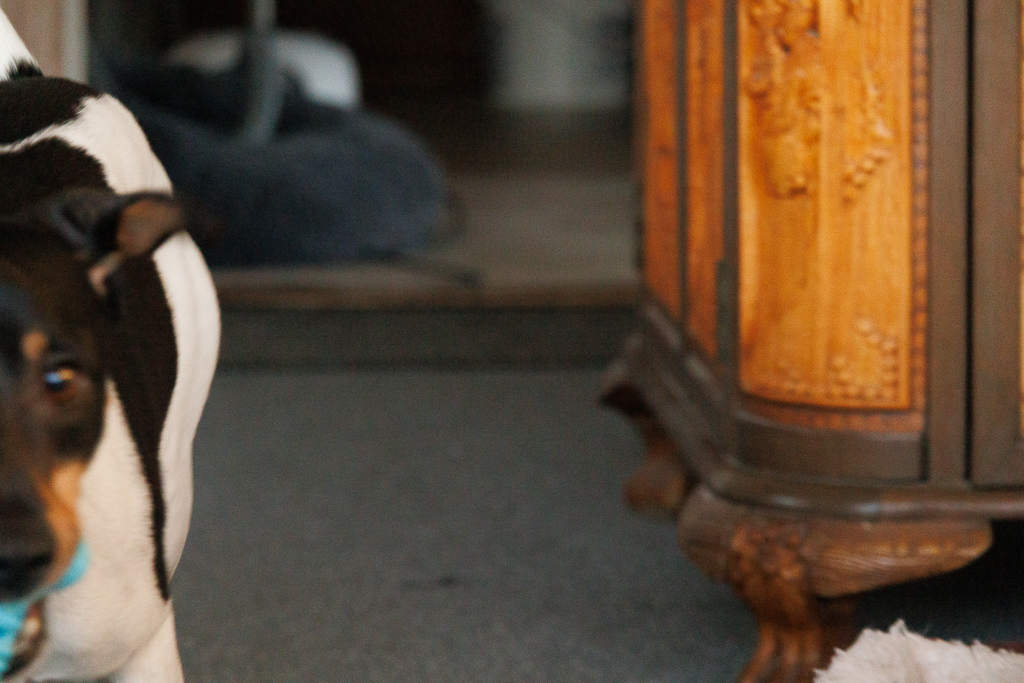Dog: (0, 0, 231, 683)
